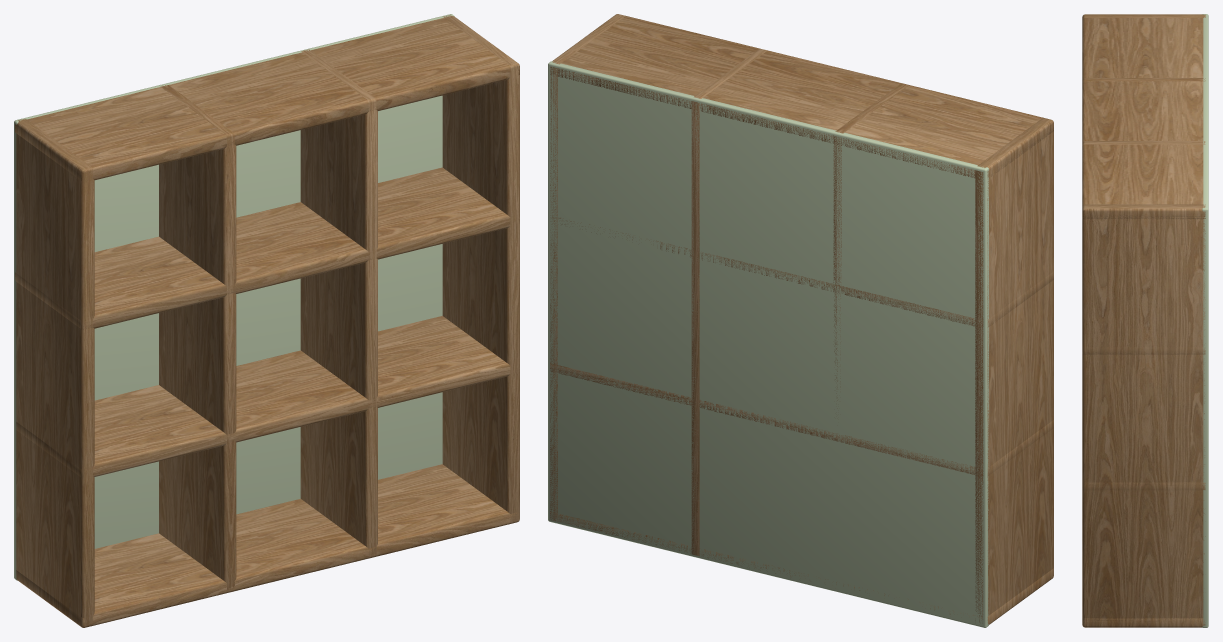
File: cube-display-shelf.glb
The picture shows the model from 3 angles, left to right: view 1: azimuth 30°, elevation 25°; view 2: azimuth 150°, elevation 25°; view 3: azimuth 270°, elevation 25°; orthographic projection. The views are drawn at different scales.
Visible parts, largest first — view 1: catalog_surface_RealismUV; view 2: catalog_surface_RealismUV; view 3: catalog_surface_RealismUV.
Part boxes in pixels (x1=…): catalog_surface_RealismUV: x1=14, y1=14, x2=519, y2=627; catalog_surface_RealismUV: x1=548, y1=14, x2=1053, y2=627; catalog_surface_RealismUV: x1=1082, y1=14, x2=1208, y2=627.
Bounding box in the file's own units: 1.32 × 1.32 × 0.36.
Materials: 2 (1 with a texture image).
